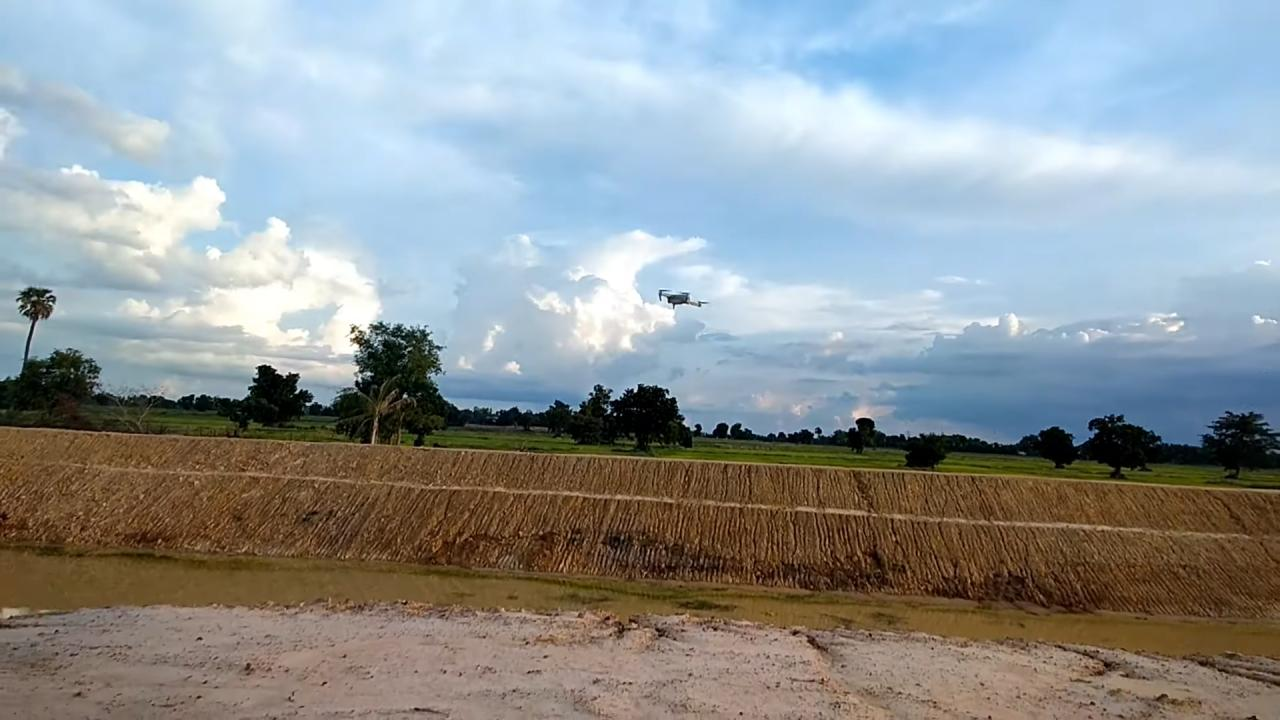Drone: (647, 277, 718, 321)
